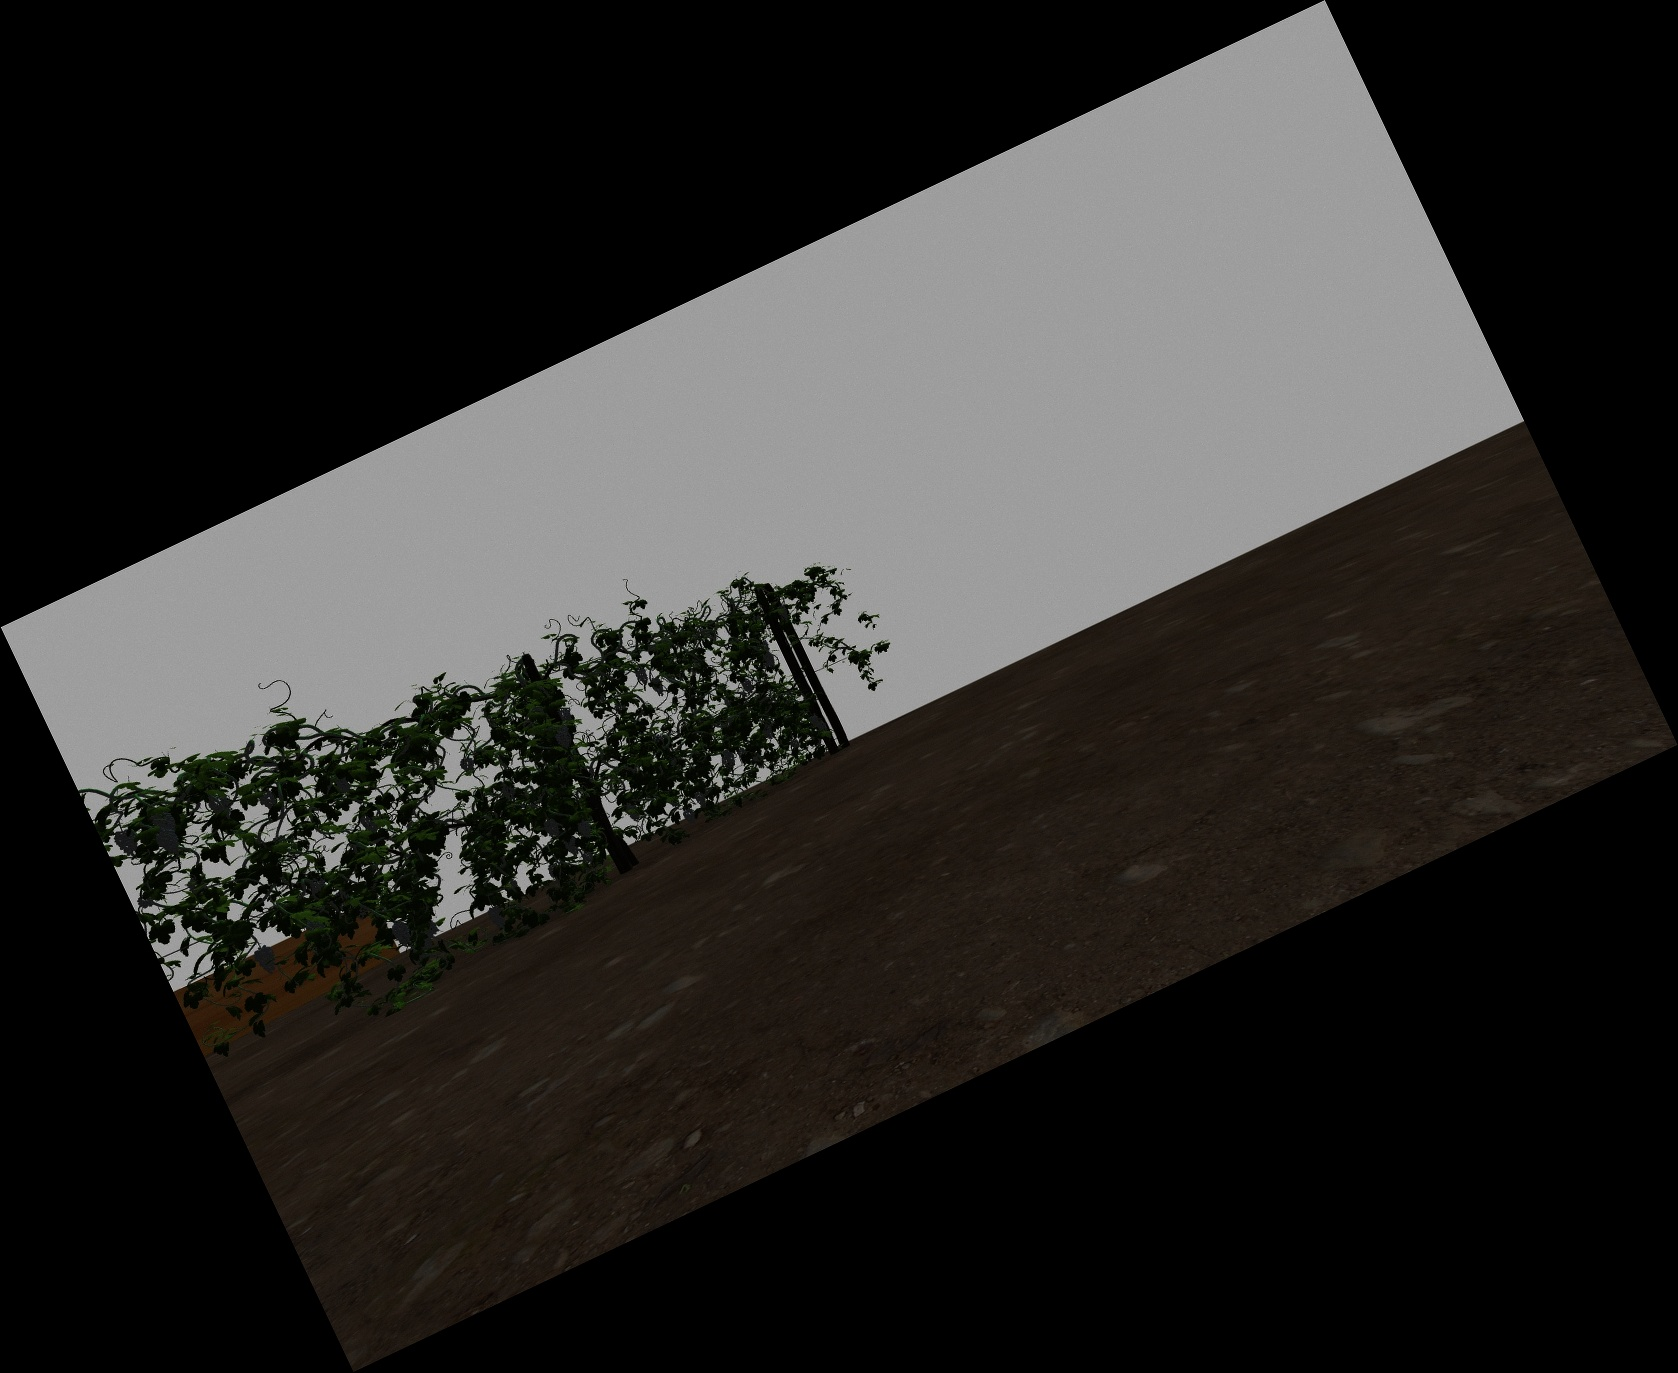grape: (153, 813, 178, 857), (117, 829, 137, 857), (256, 946, 276, 974), (394, 921, 411, 946), (555, 728, 571, 749), (491, 907, 505, 930), (545, 818, 560, 836), (578, 820, 592, 839), (721, 750, 736, 767), (564, 836, 578, 854), (461, 758, 475, 775), (559, 707, 573, 723), (762, 651, 775, 668), (695, 790, 707, 808), (652, 677, 663, 696), (684, 808, 695, 825), (636, 666, 647, 683), (741, 677, 753, 694), (762, 723, 773, 739), (779, 605, 789, 622), (811, 715, 819, 728), (818, 722, 826, 733), (792, 739, 800, 749)
